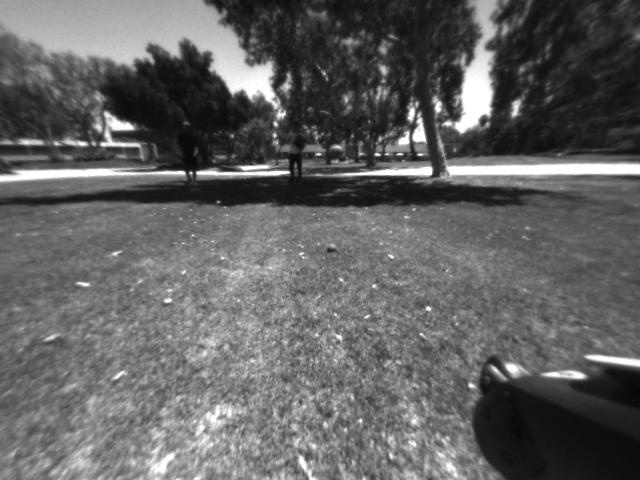dogtoy: (321, 236, 343, 257)
